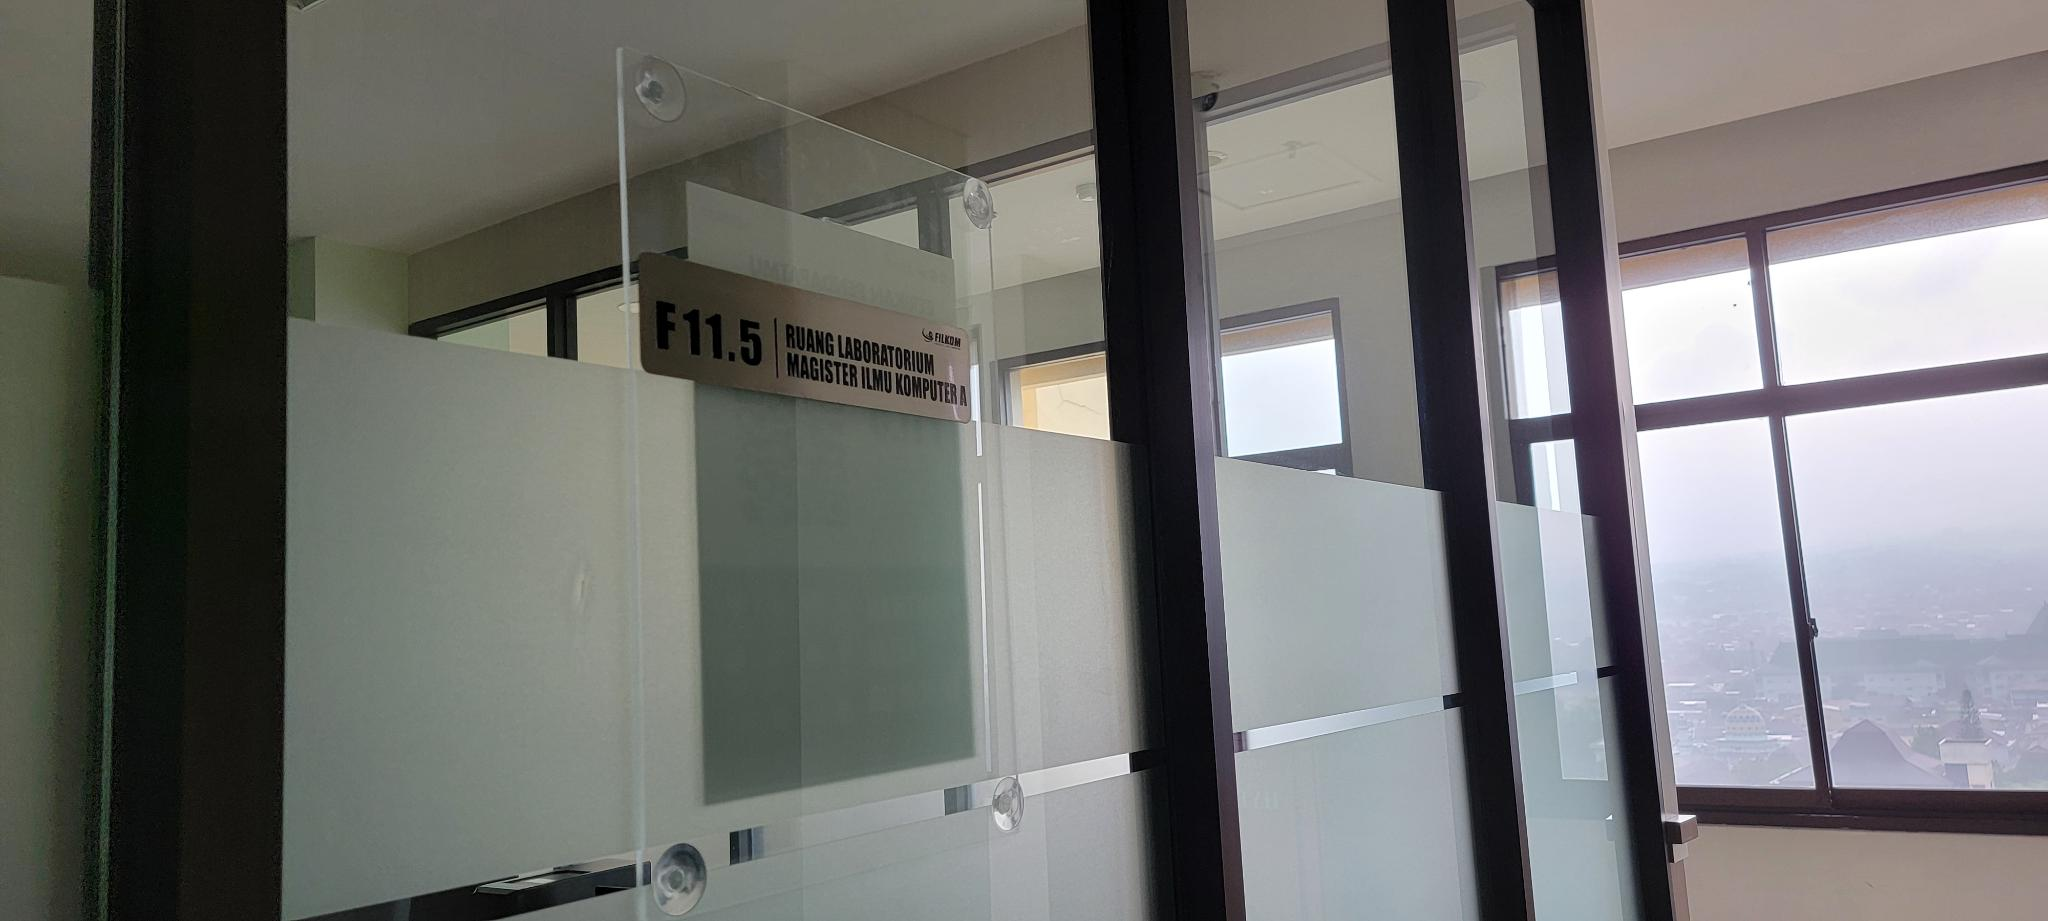plate: (639, 248, 973, 428)
